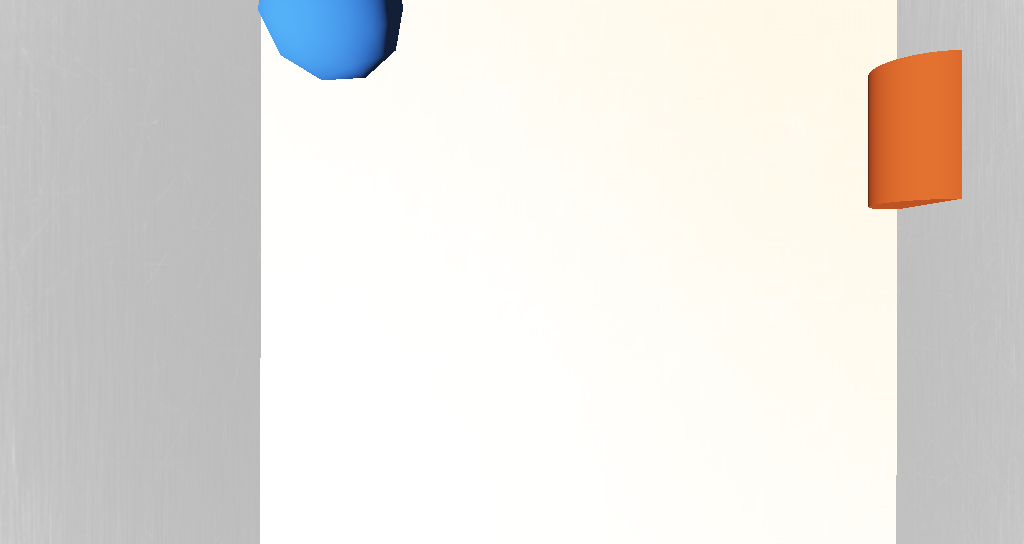cone: (633, 200, 687, 248)
cylinder: (620, 365, 741, 456)
sphere: (357, 165, 424, 208)
